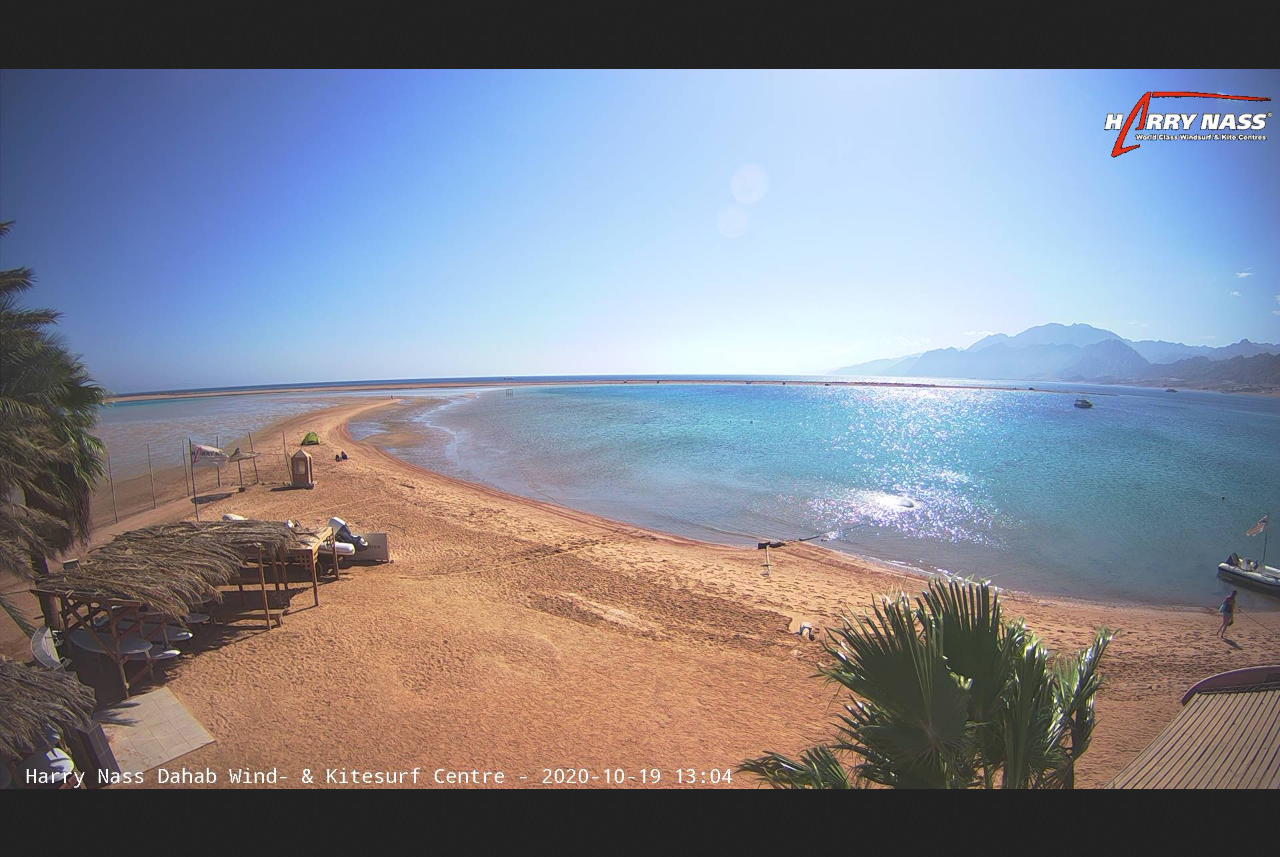yes: (188, 439, 231, 473)
